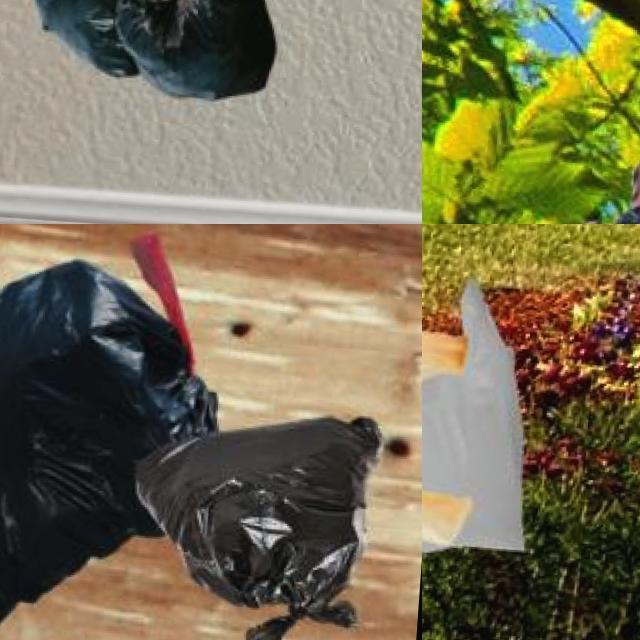waste: (0, 240, 226, 640), (148, 403, 376, 618), (422, 274, 549, 558), (120, 0, 281, 93), (20, 0, 151, 73)
